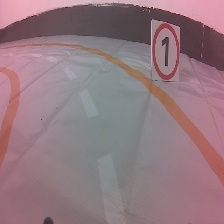limit: (148, 19, 184, 83)
